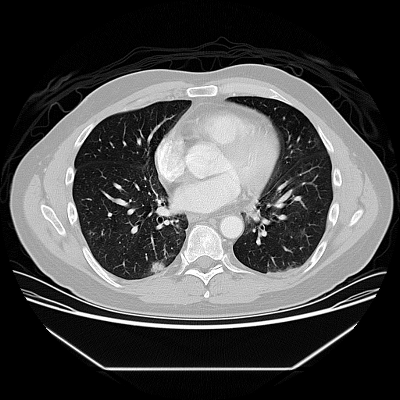nodule: (150, 261, 162, 273)
